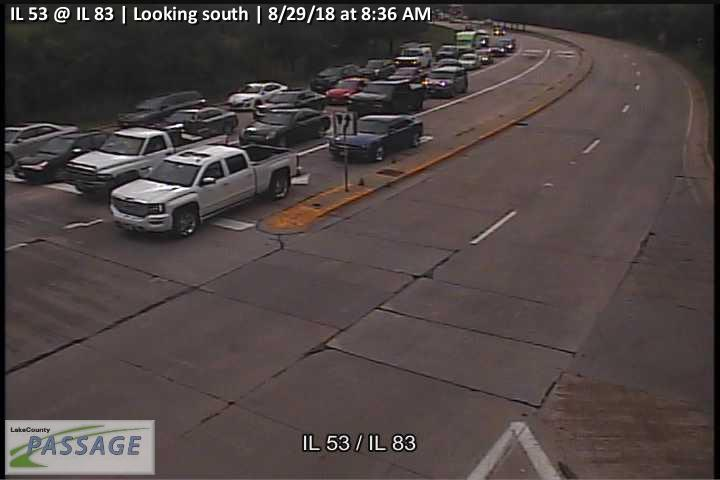SUV: (111, 87, 209, 127)
Sedan: (11, 130, 127, 180), (328, 113, 424, 162), (236, 104, 333, 151), (1, 119, 80, 169), (144, 108, 240, 135), (249, 88, 327, 116), (223, 82, 290, 106), (424, 65, 468, 100)
Truck: (108, 139, 300, 234), (64, 124, 202, 193), (344, 76, 427, 122), (324, 75, 374, 104)
